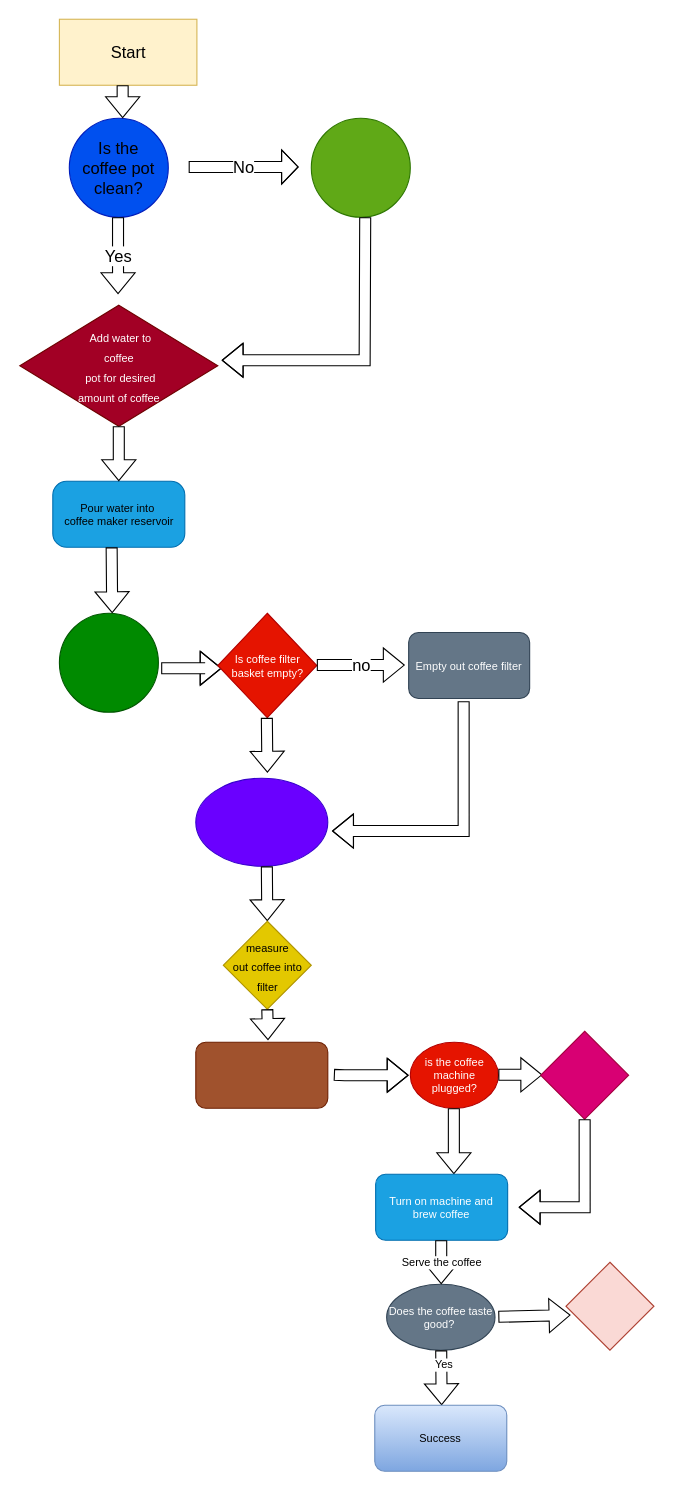
This 673x1491 diagram has some shape labels left out. The shapes that lost their labels are listed below. From the top down, each one's centre as x and y in pixels, then its label:
the point at 360,167: Wash The coffee po
the point at 108,662: Place coffee pot on the coffee maker
the point at 261,821: Place New filter in new basket
the point at 261,1074: Place Filter housing into coffee machine
the point at 584,1074: Plug in coffee machine
the point at 609,1305: Start Over
